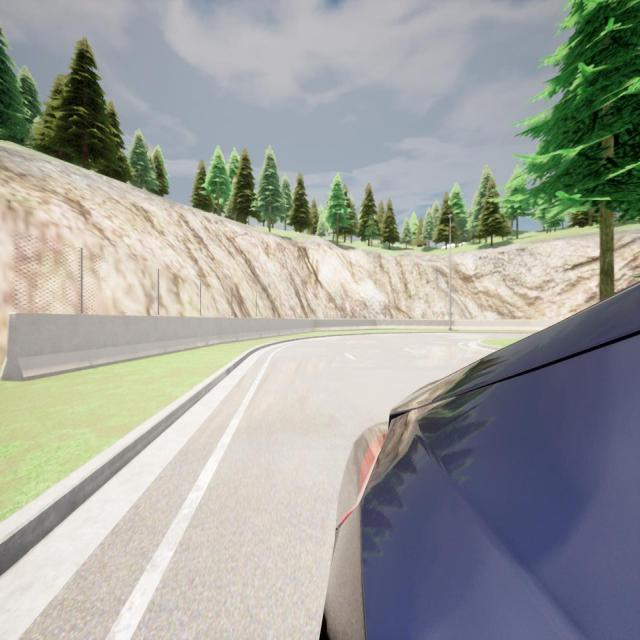Vehicle: (325, 283, 640, 638)
